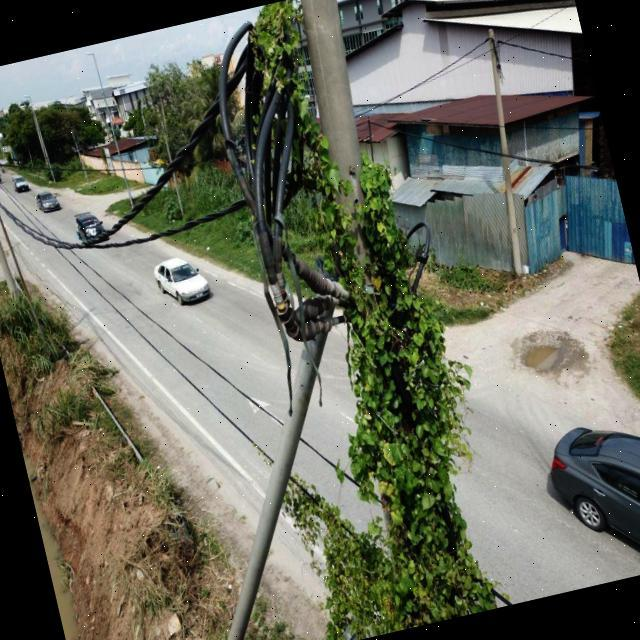critical vegetation: (170, 0, 520, 637)
